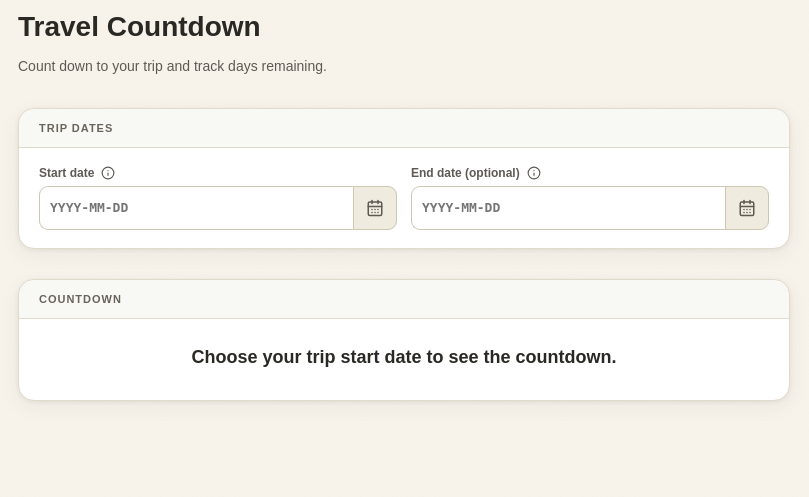
Test: Travel Countdown page › starts empty and calculates from its own selected date without a trip store
The width and height of the screenshot is (809, 497).
Expected: the text "Choose your trip start date to see the countdown." is shown, [192,347,616,368]
Type "2999-01-01" into the field labelled "Start date" at (196, 208), box [39,186,353,230]
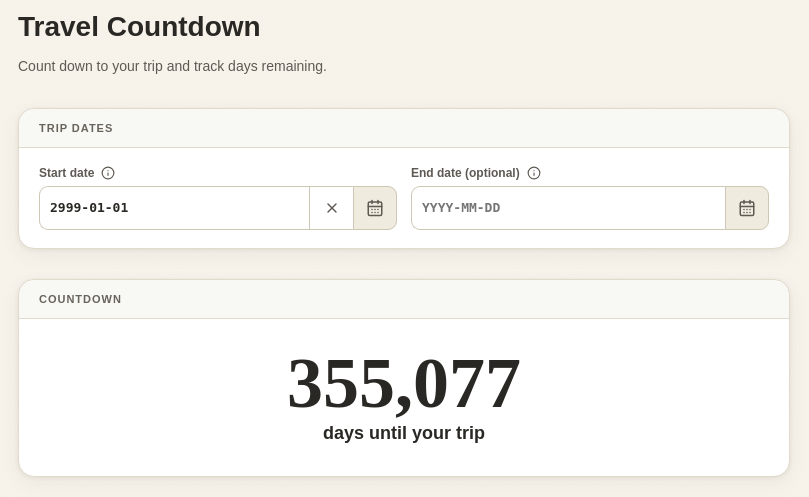
Expected: the field labelled "End date (optional)" is empty, [411,186,725,230]
Now the text "days until your trip" is shown, box [323,423,485,444]
